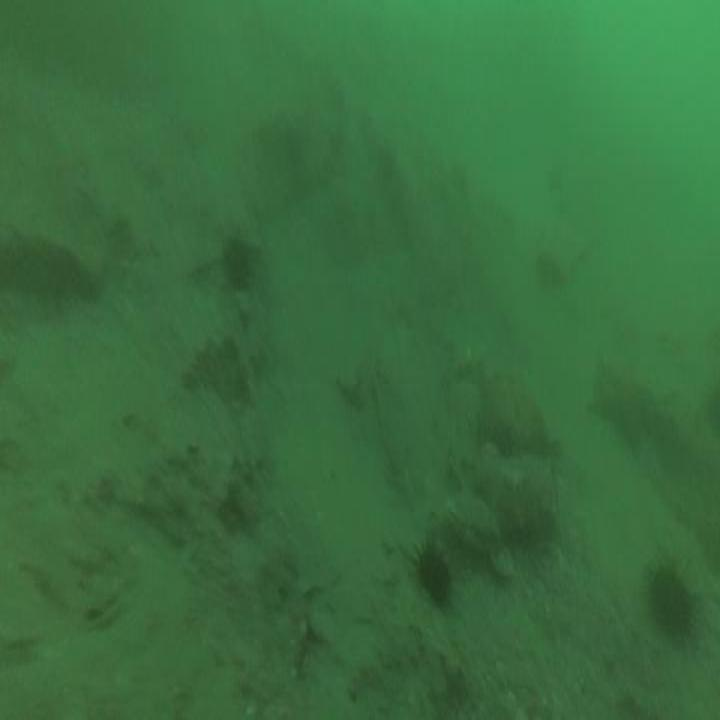echinus: (650, 565, 692, 635), (413, 546, 452, 602), (222, 240, 250, 286)
